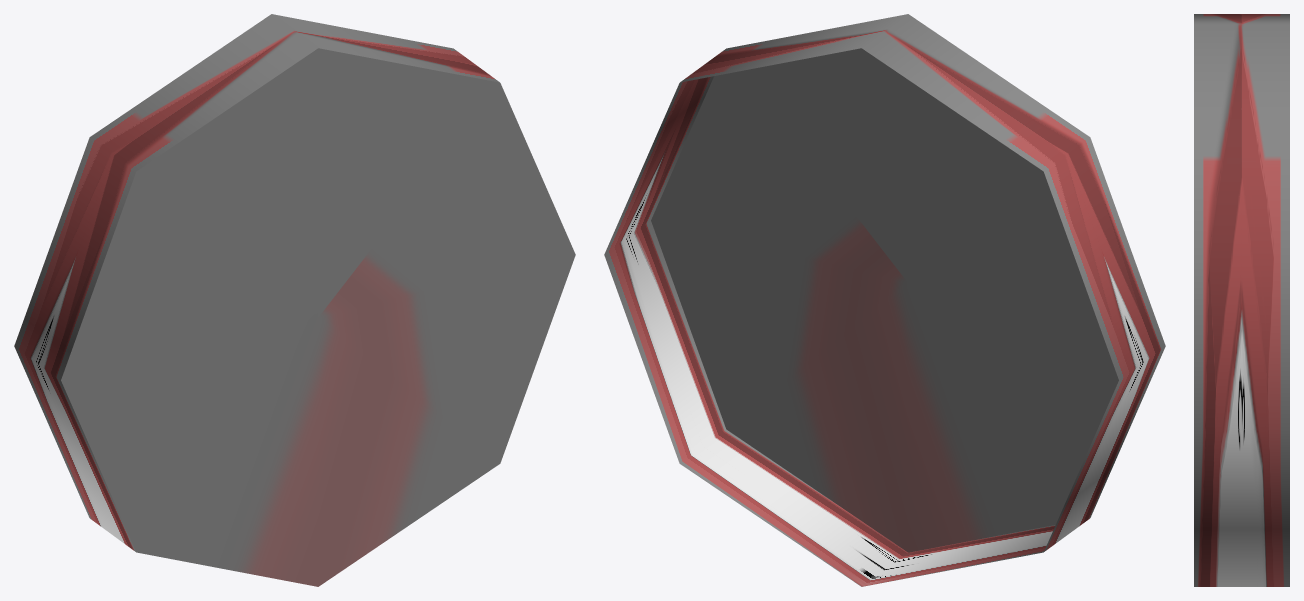
File: clock.FBX
3 views of the same model, side by side, from view 1: azimuth 30°, elevation 25°; view 2: azimuth 150°, elevation 25°; view 3: azimuth 270°, elevation 25° (orthographic). The views are drawn at different scales.
Parts seen in each view (by area): view 1: wall clock; view 2: wall clock; view 3: wall clock.
Part boxes in pixels (x1,y1,x2,y2): wall clock: (14, 14, 575, 586); wall clock: (604, 14, 1165, 586); wall clock: (1194, 14, 1289, 586).
Bounding box in the file's own units: 1.54 × 1.54 × 0.2419.
